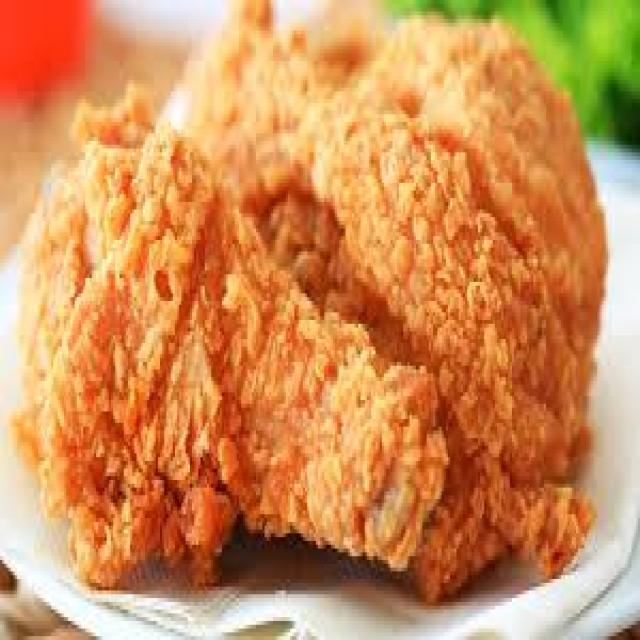Frango: (28, 27, 614, 606)
